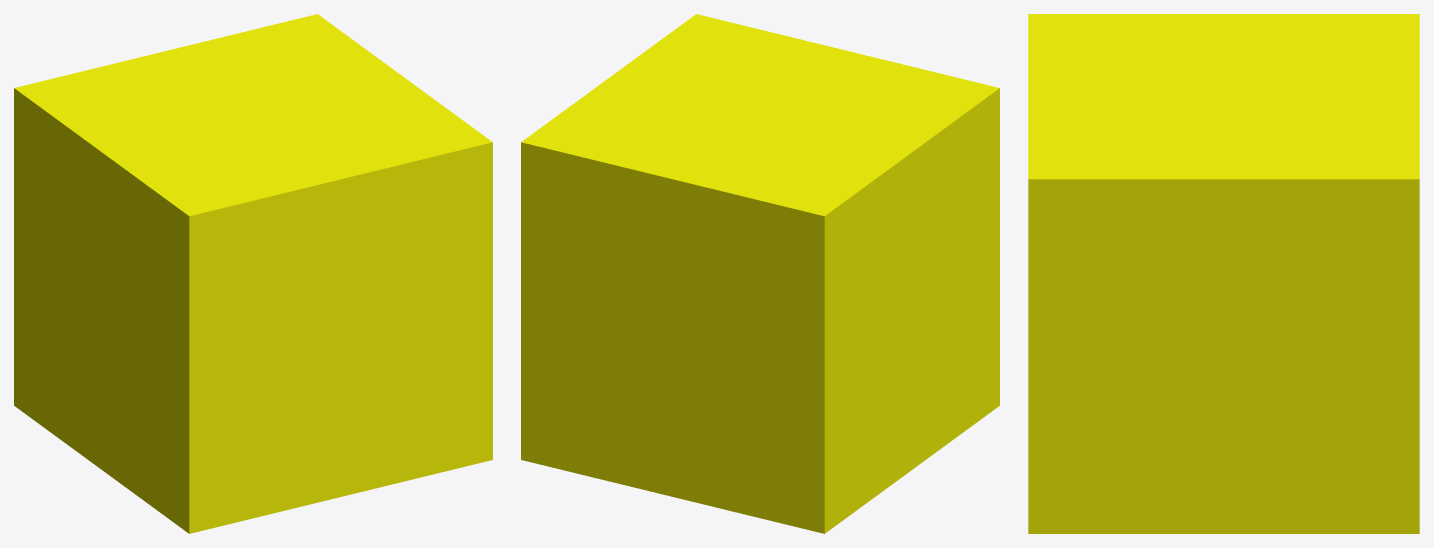
The model's file is Block_Blank.glb.
3 renders of one model, left to right at view 1: azimuth 30°, elevation 25°; view 2: azimuth 150°, elevation 25°; view 3: azimuth 270°, elevation 25°, orthographic. The views are drawn at different scales.
Visible parts, largest first — view 1: Block_Blank; view 2: Block_Blank; view 3: Block_Blank.
Part boxes in pixels (left/top/right/bottom): Block_Blank: left=14, top=14, right=492, bottom=533; Block_Blank: left=521, top=14, right=999, bottom=533; Block_Blank: left=1028, top=14, right=1419, bottom=533.
Bounding box in the file's own units: 2 × 2 × 2.
Materials: 1 (1 with a texture image).
